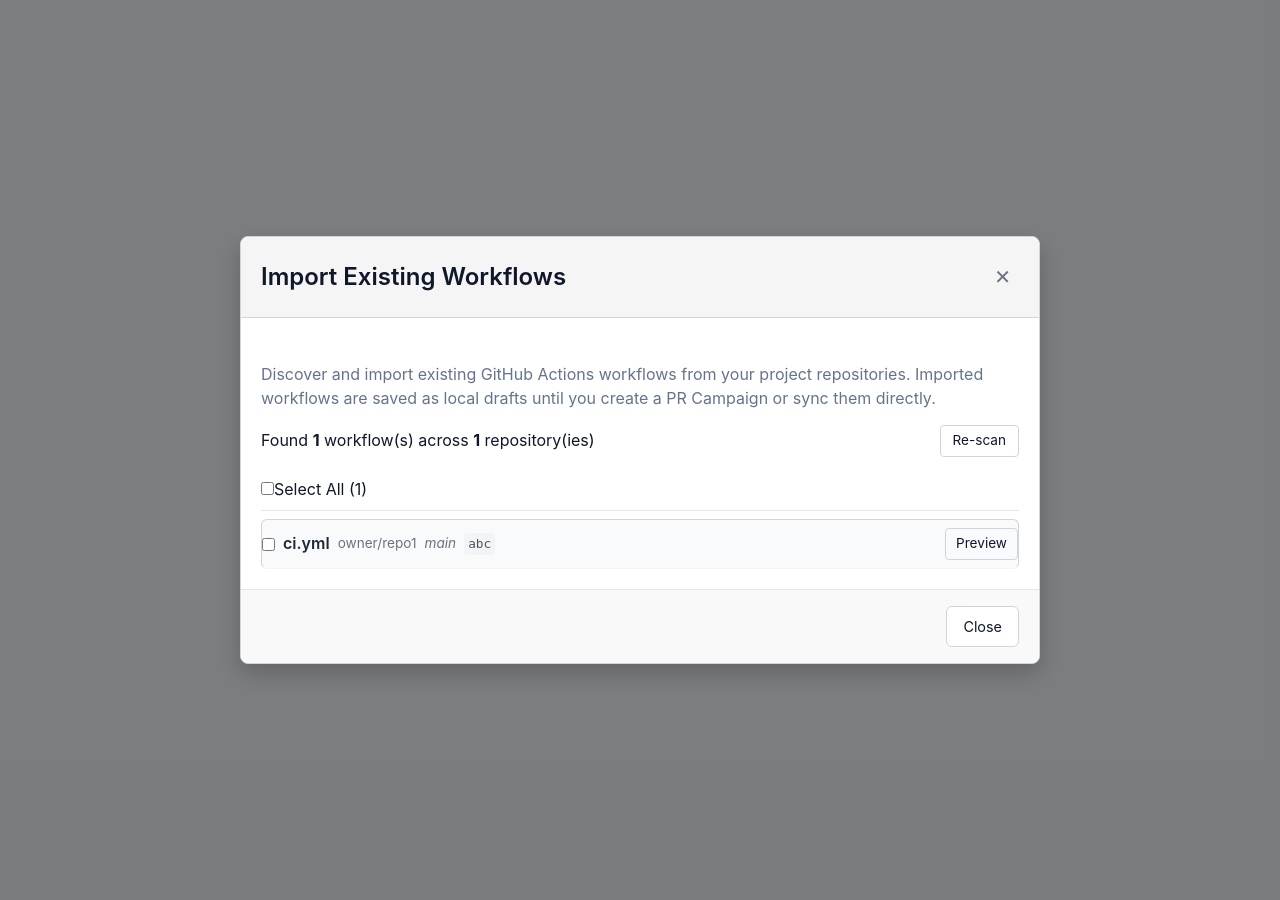
Test: WorkflowImportPanel › shows success message after import
Expected: the element with test id "workflow-list" is shown, [261,519,1019,569]
Click the checkbox labelled "ci.yml owner/repo1 main abc": (268, 544) [262,538,275,551]
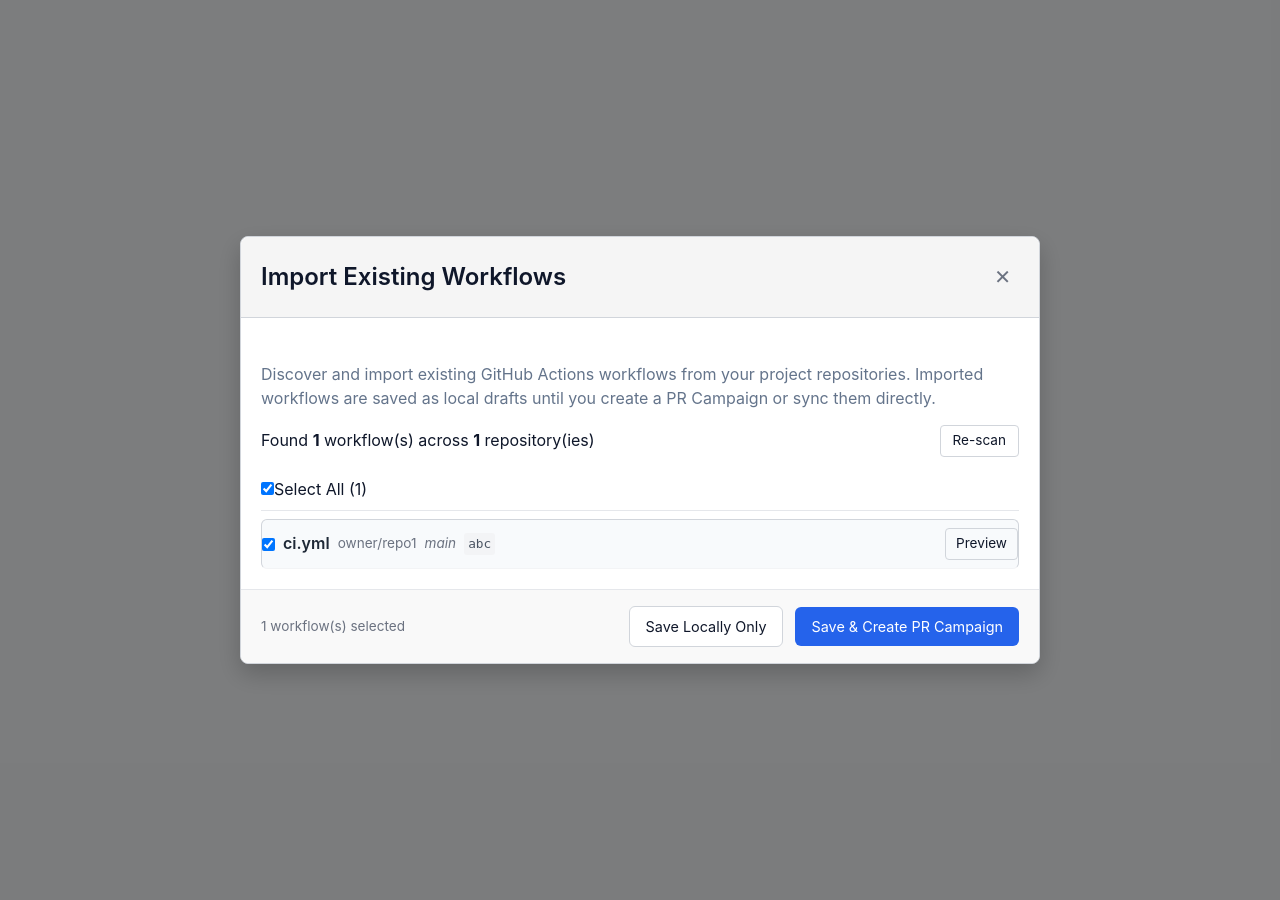
Now the button with test id "save-local-button" is shown
Click the button with test id "save-local-button": (706, 626) [629,606,784,647]
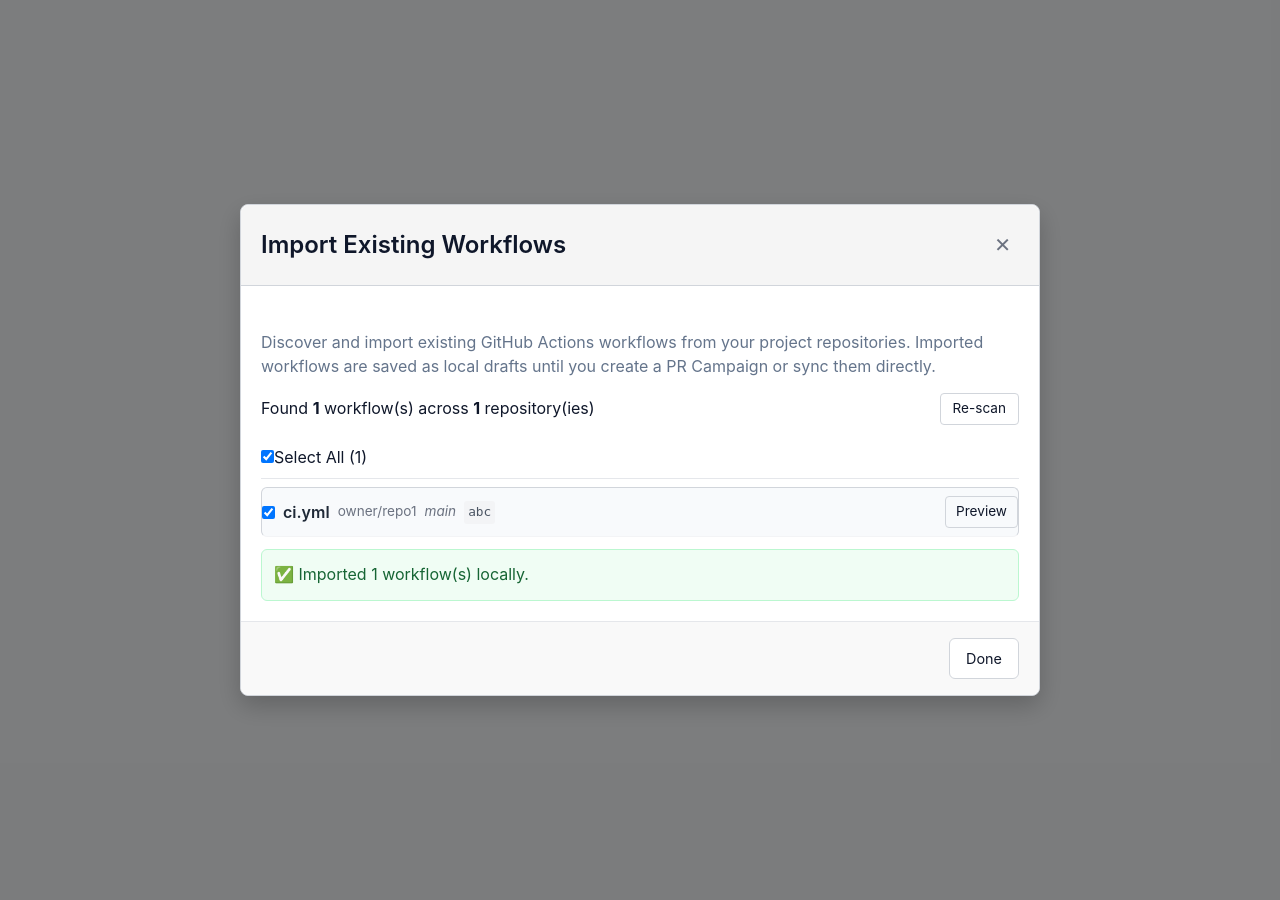
Now the text "✅ Imported 1 workflow(s) locally." is shown, box [261,549,1019,601]
